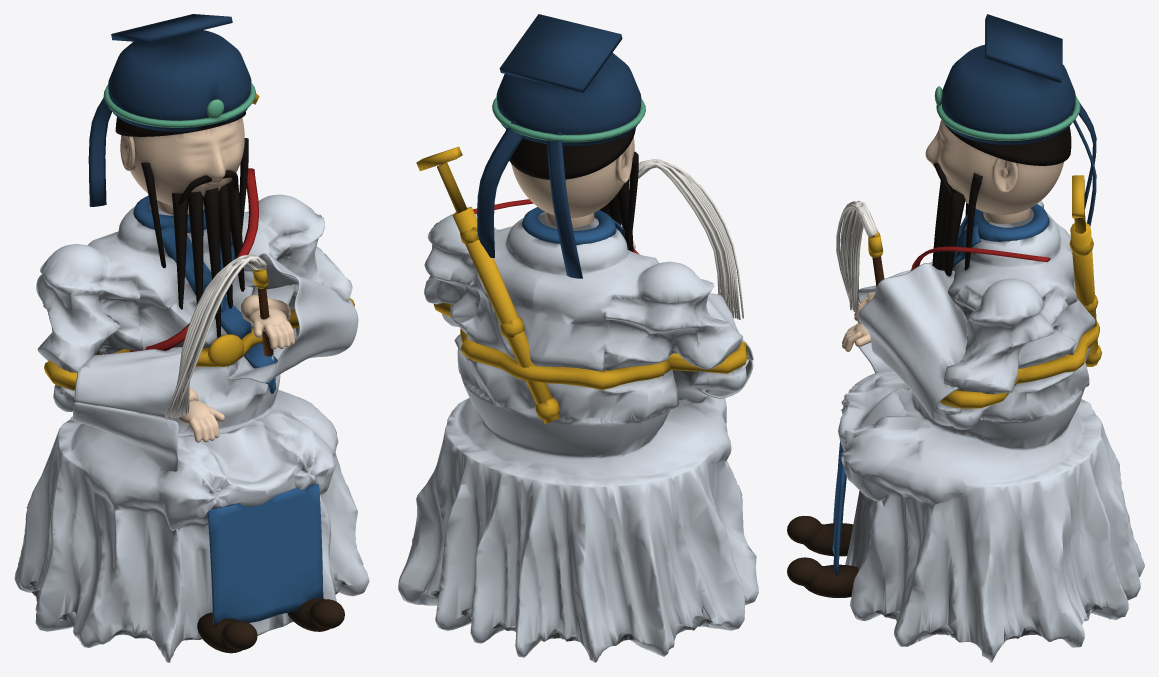
Rendered from lvdongbin.glb.
3 renders of one model, left to right at view 1: azimuth 30°, elevation 25°; view 2: azimuth 150°, elevation 25°; view 3: azimuth 270°, elevation 25°, orthographic. The views are drawn at different scales.
Visible parts, largest first — view 1: LD_Robe, LD_CapMesh, LD_Apron, LD_SleeveL, LD_Beard, LD_SleeveR, LD_HeadMesh, LD_Whisk, LD_Boots, LD_Lapel, LD_Belt, LD_CapJade (+6 smaller); view 2: LD_Robe, LD_CapMesh, LD_Sword, LD_Belt, LD_Whisk, LD_HeadMesh, LD_HairCap, LD_SleeveL, LD_Collar, LD_Beard, LD_CapJade; view 3: LD_Robe, LD_CapMesh, LD_SleeveR, LD_HeadMesh, LD_Boots, LD_Beard, LD_Sword, LD_Whisk, LD_Belt, LD_HairCap, LD_Collar, LD_CapJade (+6 smaller).
Boxes of the visible parts, left/top/right/bottom form: LD_Robe: left=14, top=194, right=369, bottom=662; LD_CapMesh: left=88, top=14, right=251, bottom=206; LD_Apron: left=208, top=483, right=323, bottom=625; LD_SleeveL: left=73, top=347, right=182, bottom=471; LD_Beard: left=141, top=138, right=248, bottom=338; LD_SleeveR: left=227, top=253, right=358, bottom=383; LD_HeadMesh: left=121, top=118, right=244, bottom=207; LD_Whisk: left=165, top=254, right=267, bottom=419; LD_Boots: left=197, top=597, right=344, bottom=653; LD_Lapel: left=155, top=226, right=277, bottom=393; LD_Belt: left=44, top=298, right=354, bottom=390; LD_CapJade: left=103, top=82, right=255, bottom=127; LD_Robe: left=398, top=212, right=758, bottom=662; LD_CapMesh: left=477, top=14, right=641, bottom=278; LD_Sword: left=416, top=146, right=560, bottom=423; LD_Belt: left=433, top=303, right=746, bottom=389; LD_Whisk: left=628, top=159, right=743, bottom=319; LD_HeadMesh: left=511, top=136, right=634, bottom=217; LD_HairCap: left=505, top=128, right=635, bottom=179; LD_SleeveL: left=672, top=293, right=753, bottom=403; LD_Collar: left=522, top=207, right=616, bottom=245; LD_Beard: left=600, top=151, right=638, bottom=252; LD_CapJade: left=492, top=96, right=645, bottom=142; LD_Robe: left=838, top=200, right=1144, bottom=662; LD_CapMesh: left=941, top=14, right=1096, bottom=226; LD_SleeveR: left=857, top=263, right=967, bottom=426; LD_HeadMesh: left=925, top=120, right=1063, bottom=214; LD_Boots: left=787, top=516, right=858, bottom=597; LD_Beard: left=932, top=162, right=982, bottom=276; LD_Sword: left=1069, top=175, right=1101, bottom=366; LD_Whisk: left=836, top=200, right=877, bottom=311; LD_Belt: left=940, top=321, right=1099, bottom=408; LD_HairCap: left=943, top=122, right=1071, bottom=165; LD_Collar: left=973, top=204, right=1049, bottom=241; LD_CapJade: left=934, top=86, right=1080, bottom=141.
Bounding box in the file's own units: 1.18 × 2 × 1.16.
